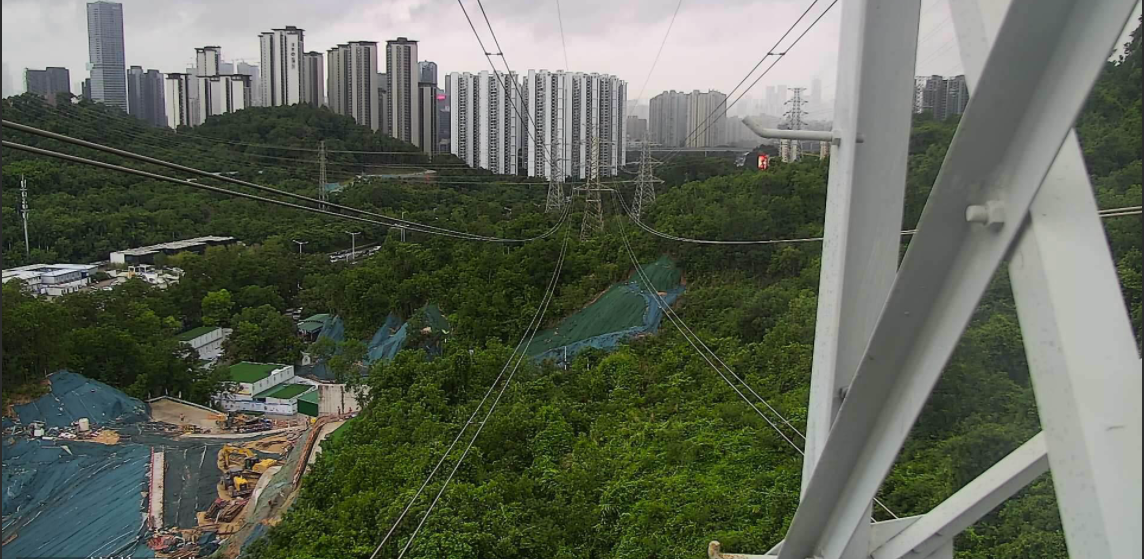绿膜: (516, 251, 688, 361), (0, 440, 156, 558), (0, 366, 178, 443), (292, 303, 447, 384), (161, 451, 228, 559), (152, 429, 294, 452), (245, 446, 289, 462)
